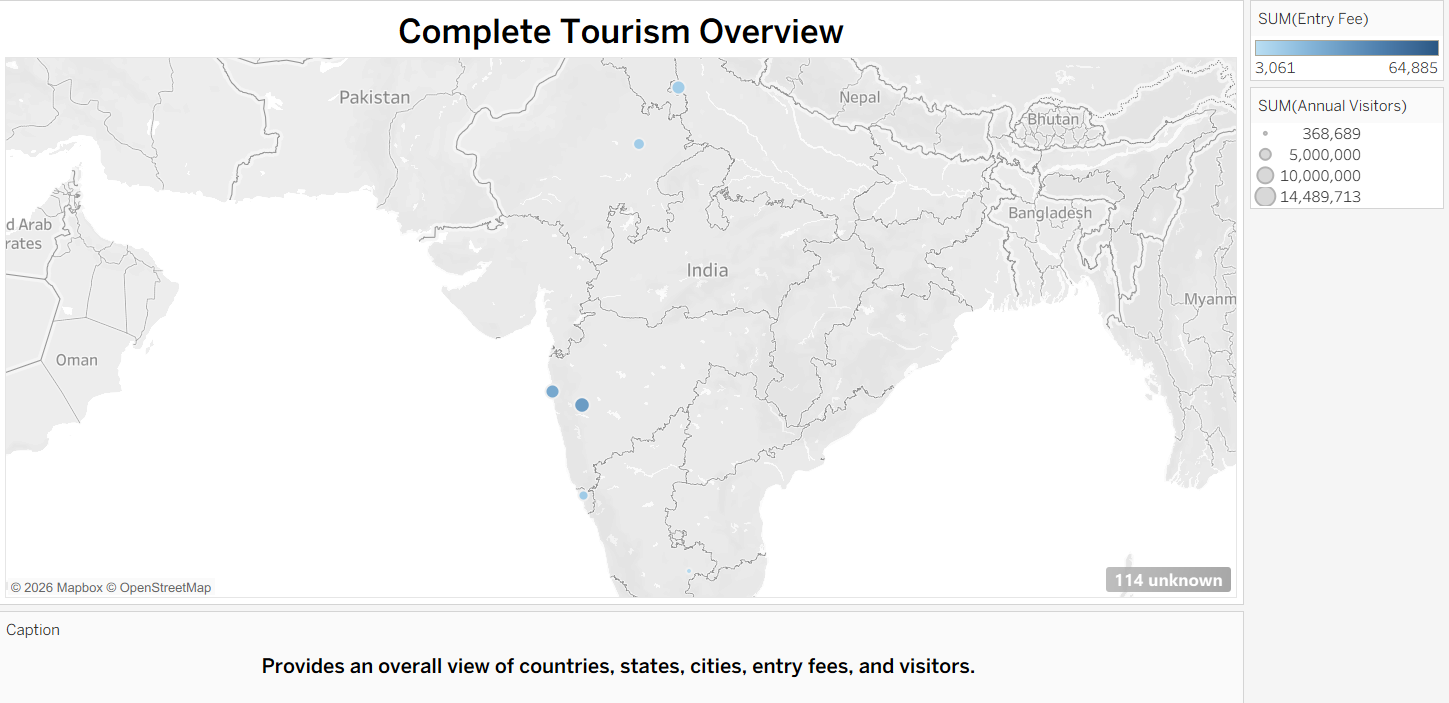

The page's visual inventory and layout, read from the dashboard file:
{"tool":"tableau","page":{"name":"Dashboard 3","canvas":[1000,1000],"units":"permille","ordinal":2},"visuals":[{"type":"worksheet","title":"Sheet 7","mark":"Automatic","box":[4.9,10.2,892.7,979.6]},{"type":"legend","title":"Sheet 7","param":"[federated.1f3yszq0ng22h01115kip0394kwc].[sum:Entry Fee:qk]","box":[898.8,12.7,95.1,93]},{"type":"legend","title":"Sheet 7","param":"[federated.1f3yszq0ng22h01115kip0394kwc].[sum:Annual Visitors:qk]","box":[898.8,105.7,95.1,145.2]}]}

Visuals, with their boxes on the dashboard's canvas, which has no fixed pixel size, in thousandths of its width and height (x1, y1, x2, y2). These are canvas units, not pixel positions in the 1449x703 screenshot, which may show the page scaled, cropped or inside an application window:
"Sheet 7" worksheet: (5, 10, 898, 990)
"Sheet 7" legend: (899, 13, 994, 106)
"Sheet 7" legend: (899, 106, 994, 251)
